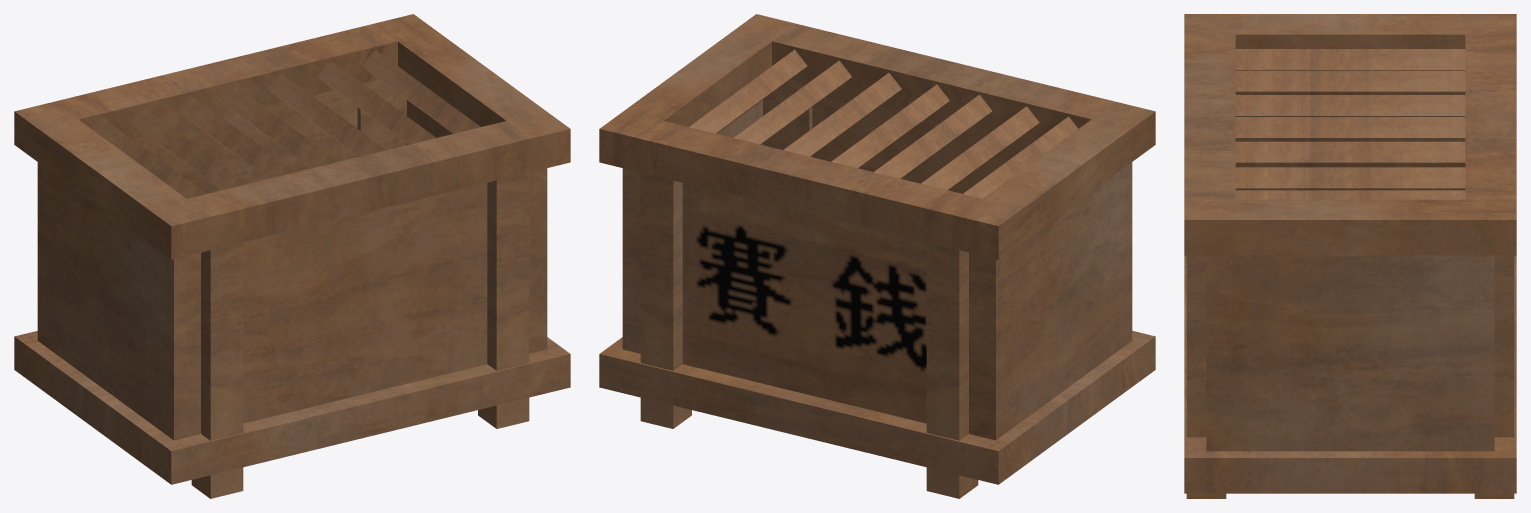
Rendered from SM_Saisenbako_01.fbx.
3 renders of one model, left to right at view 1: azimuth 30°, elevation 25°; view 2: azimuth 150°, elevation 25°; view 3: azimuth 270°, elevation 25°, orthographic. The views are drawn at different scales.
Parts seen in each view (by area): view 1: SM_Saisenbako_01; view 2: SM_Saisenbako_01; view 3: SM_Saisenbako_01.
Boxes of the visible parts, x1,y1,x2,y2 form: SM_Saisenbako_01: (14, 14, 570, 498); SM_Saisenbako_01: (599, 14, 1155, 498); SM_Saisenbako_01: (1184, 14, 1516, 498).
Bounding box in the file's own units: 16.83 × 11.41 × 11.46.
